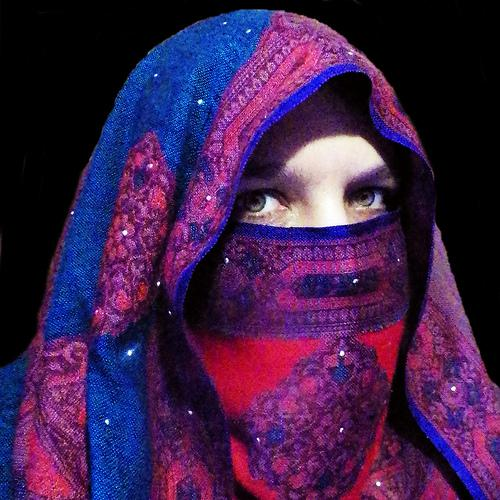OK: (194, 127, 440, 373)
